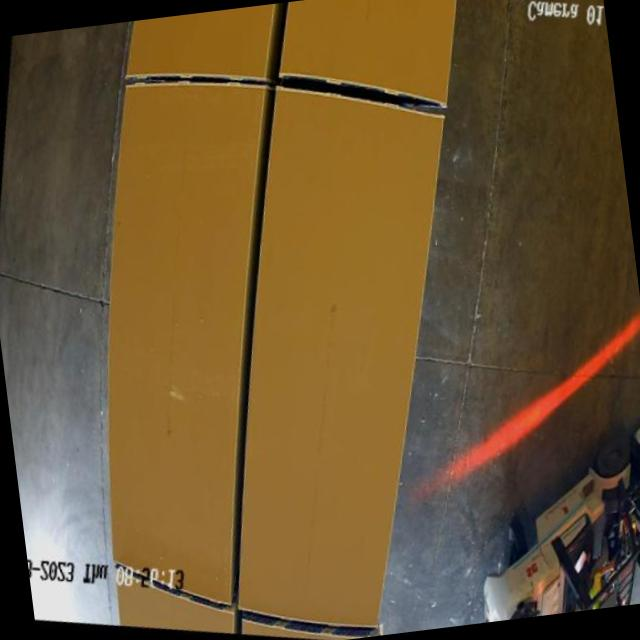forklift: (447, 398, 640, 623)
